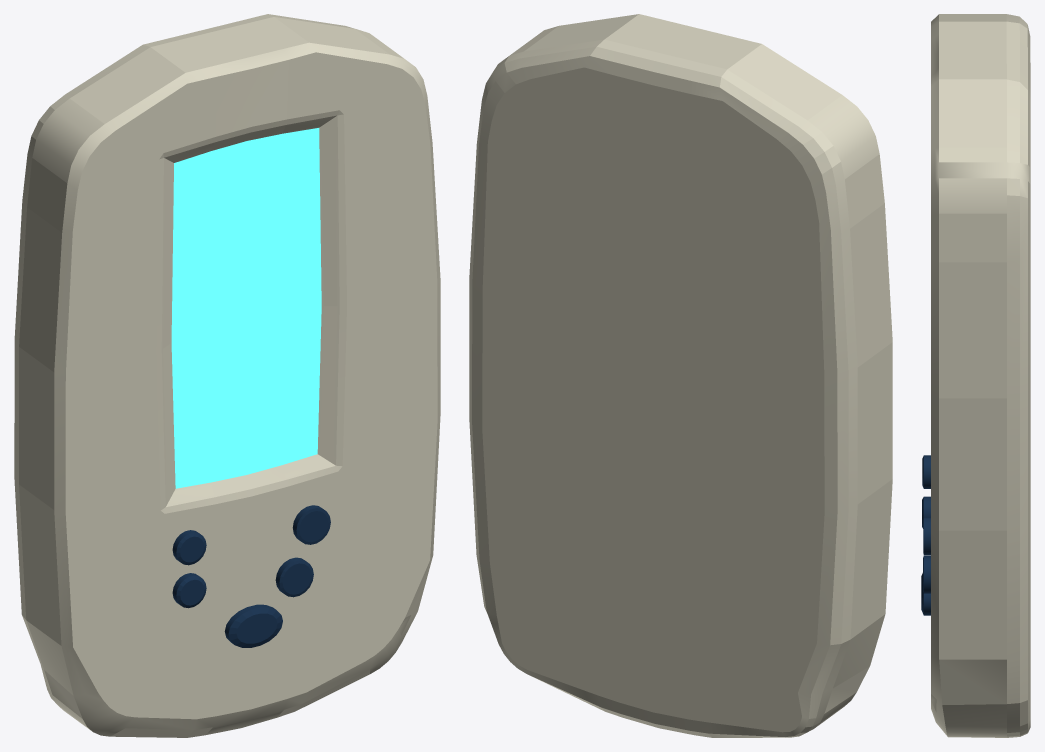
The model's file is Bp Machine.FBX.
3 renders of one model, left to right at view 1: azimuth 30°, elevation 25°; view 2: azimuth 150°, elevation 25°; view 3: azimuth 270°, elevation 25°, orthographic. The views are drawn at different scales.
Parts seen in each view (by area): view 1: BPMachine, Power_btn, C_Btn, Read_btn, Mode_btn, mmHg_btn; view 2: BPMachine; view 3: BPMachine, C_Btn, Read_btn, mmHg_btn, Power_btn, Mode_btn.
Boxes of the visible parts, x1=… form: BPMachine: x1=14, y1=14, x2=440, y2=737; Power_btn: x1=224, y1=604, x2=282, y2=647; C_Btn: x1=292, y1=505, x2=330, y2=544; Read_btn: x1=275, y1=557, x2=313, y2=597; Mode_btn: x1=172, y1=573, x2=206, y2=608; mmHg_btn: x1=172, y1=530, x2=206, y2=565; BPMachine: x1=469, y1=14, x2=892, y2=737; BPMachine: x1=931, y1=14, x2=1030, y2=737; C_Btn: x1=923, y1=517, x2=930, y2=555; Read_btn: x1=923, y1=555, x2=930, y2=593; mmHg_btn: x1=922, y1=455, x2=930, y2=488; Power_btn: x1=921, y1=573, x2=930, y2=615; Mode_btn: x1=922, y1=496, x2=930, y2=528.
Size of the model in its own units: 7.61 by 12.71 by 1.94.
